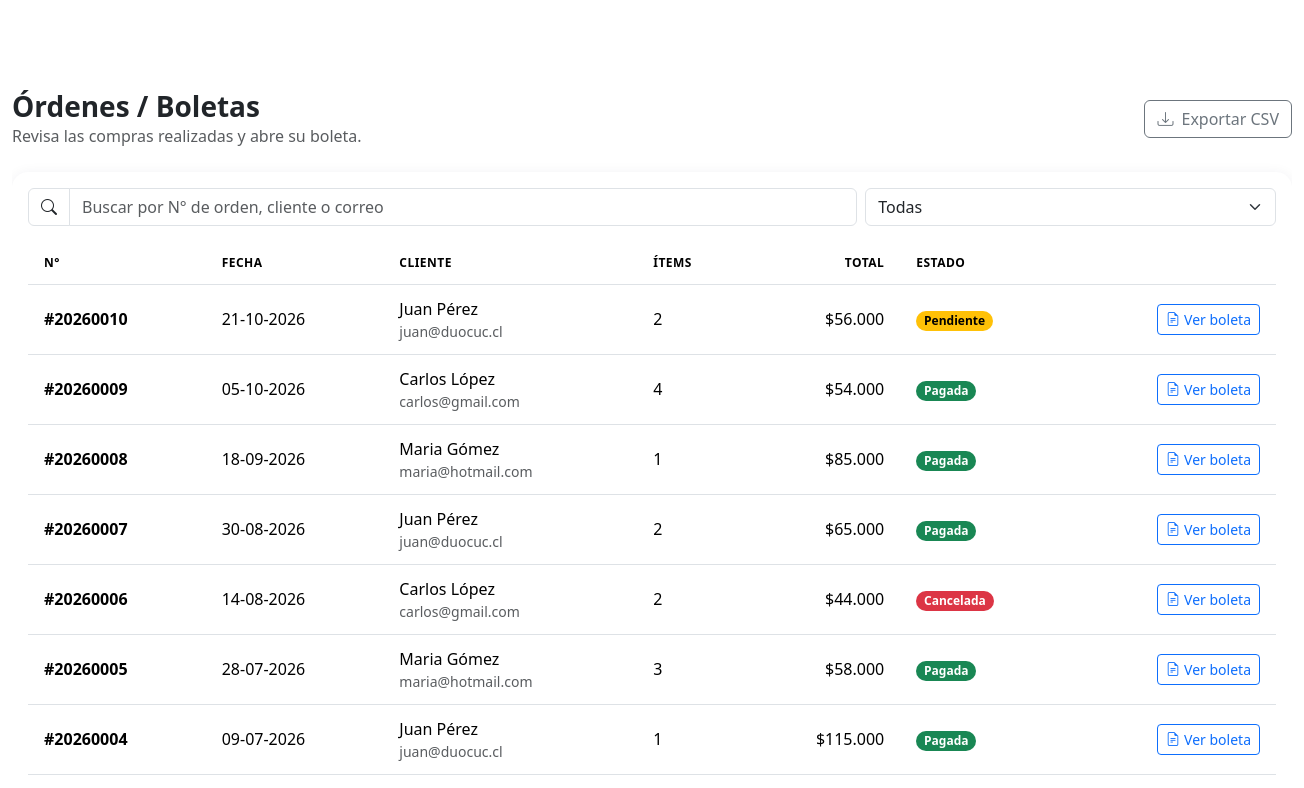
Test: admin/views/OrdenesView › filtra por estado (estado del componente)
Select "Cancelada" in the dropdown named "Filtrar por estado": (1071, 207) [865,188,1276,226]
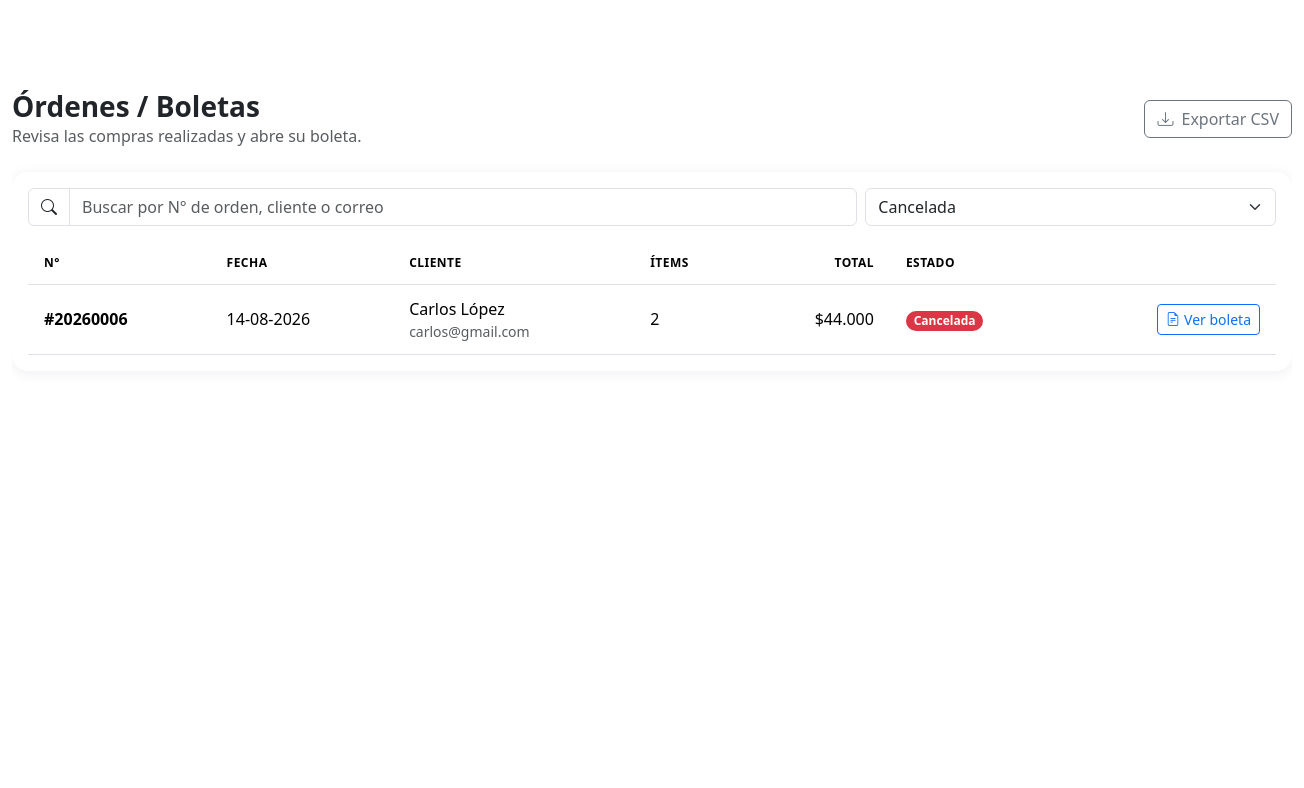
Expected: the number of buttons "Ver boleta" is 1, [1157,304,1260,335]
